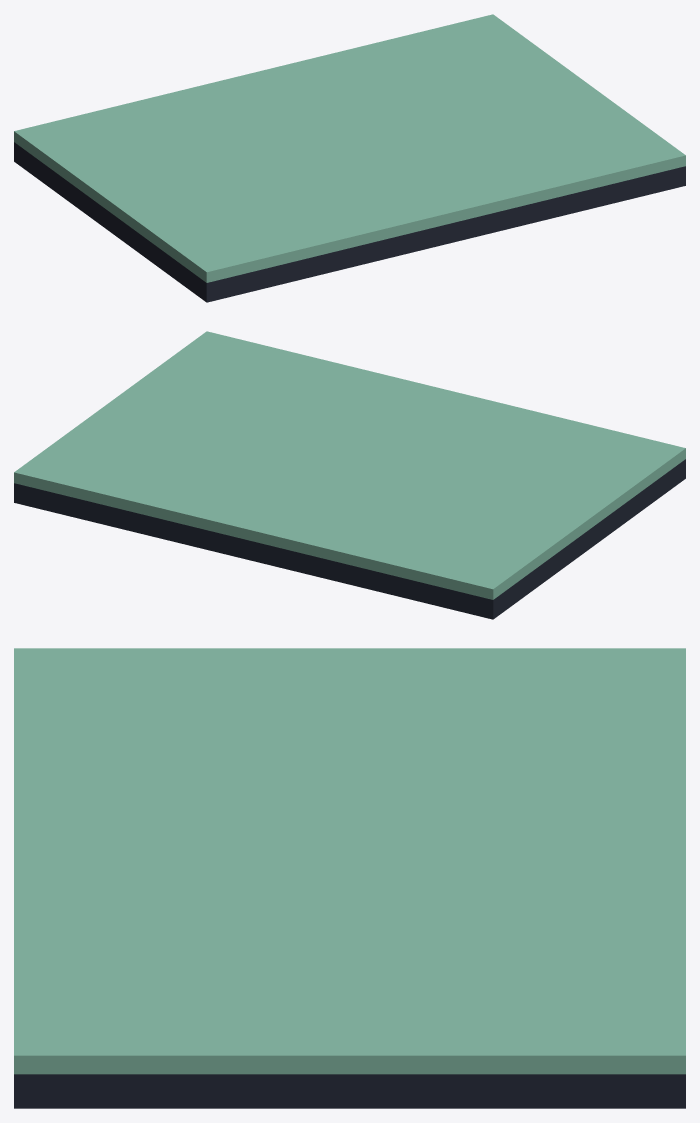
The model's file is laptop-closed.glb.
3 views of the same model, one above another, from view 1: azimuth 30°, elevation 25°; view 2: azimuth 150°, elevation 25°; view 3: azimuth 270°, elevation 25° (orthographic). The views are drawn at different scales.
Visible parts, largest first — view 1: laptop-closed; view 2: laptop-closed; view 3: laptop-closed.
Part boxes in pixels (<box>): laptop-closed: <box>14,14,685,302</box>; laptop-closed: <box>14,331,685,619</box>; laptop-closed: <box>14,648,685,1108</box>.
Bounding box in the file's own units: 33 × 2 × 23.
